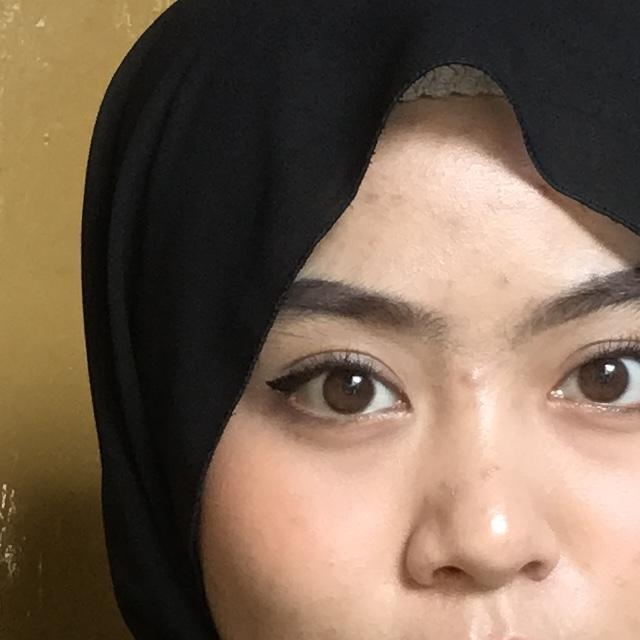kapan: (0, 236, 230, 640)
